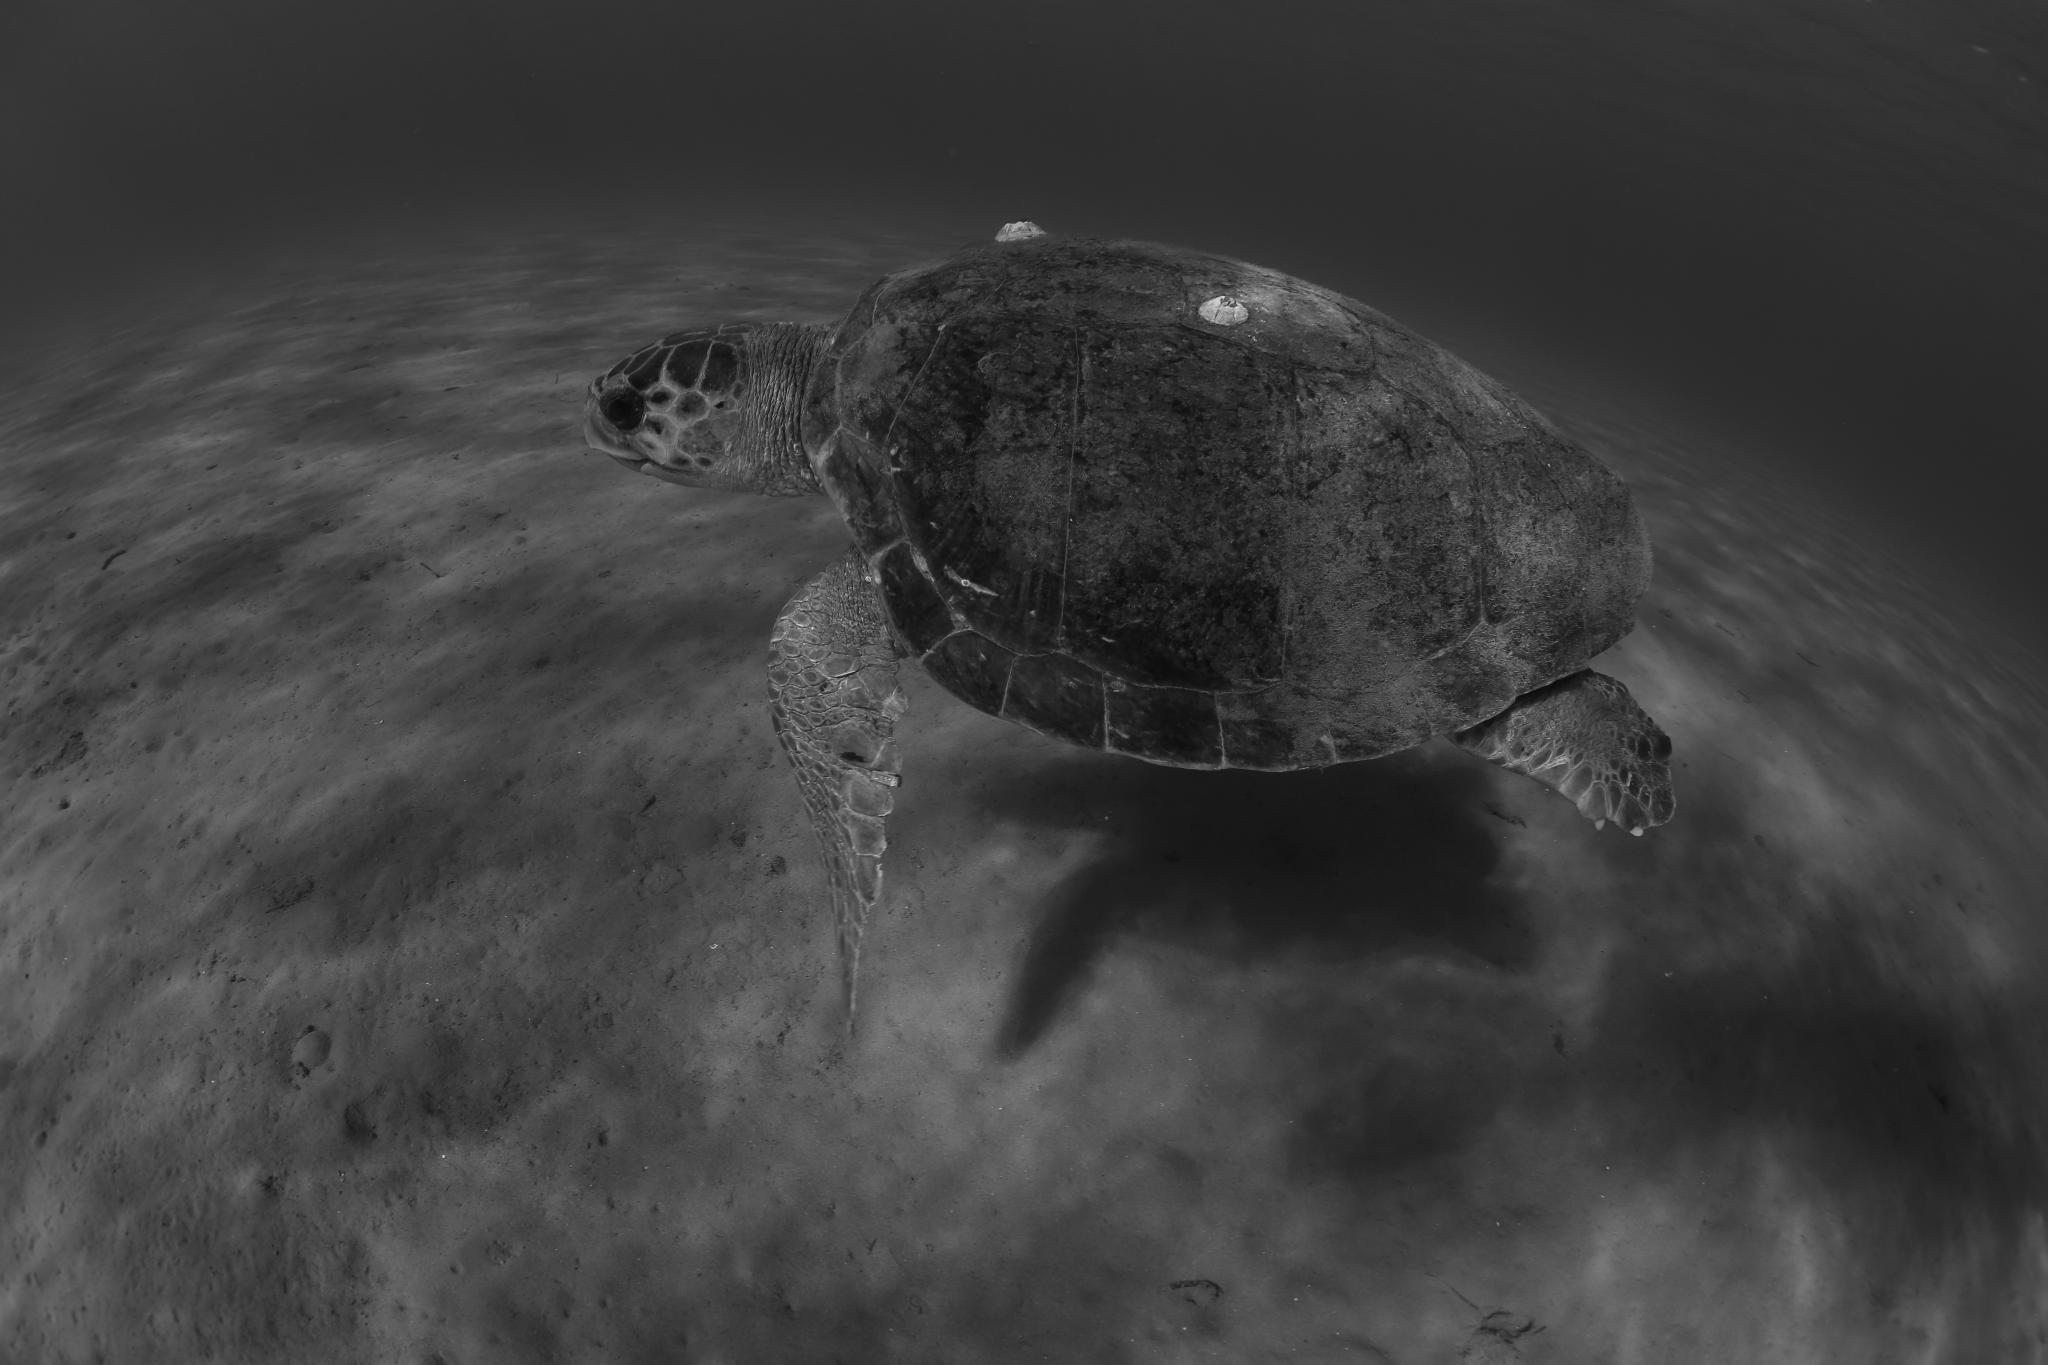Head: (583, 323, 831, 496)
